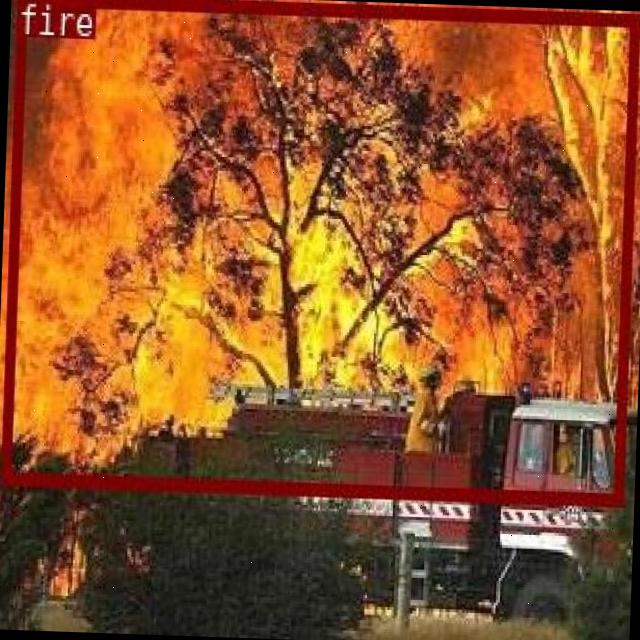fire: (0, 0, 638, 504)
